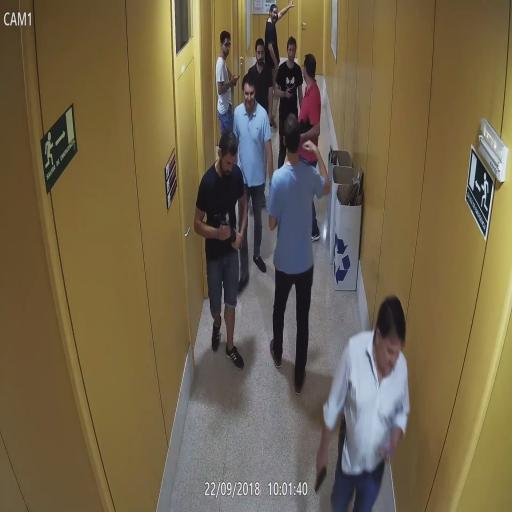Handgun: (314, 446, 330, 494)
